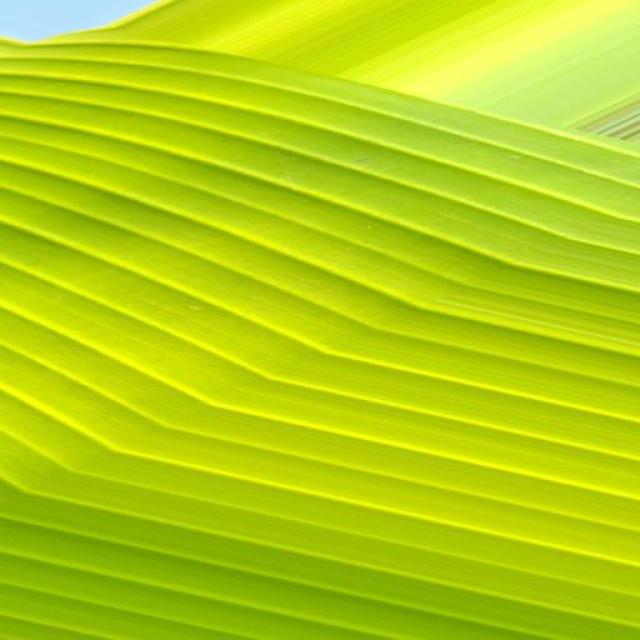Black_leaf_spot: (0, 16, 626, 637)
